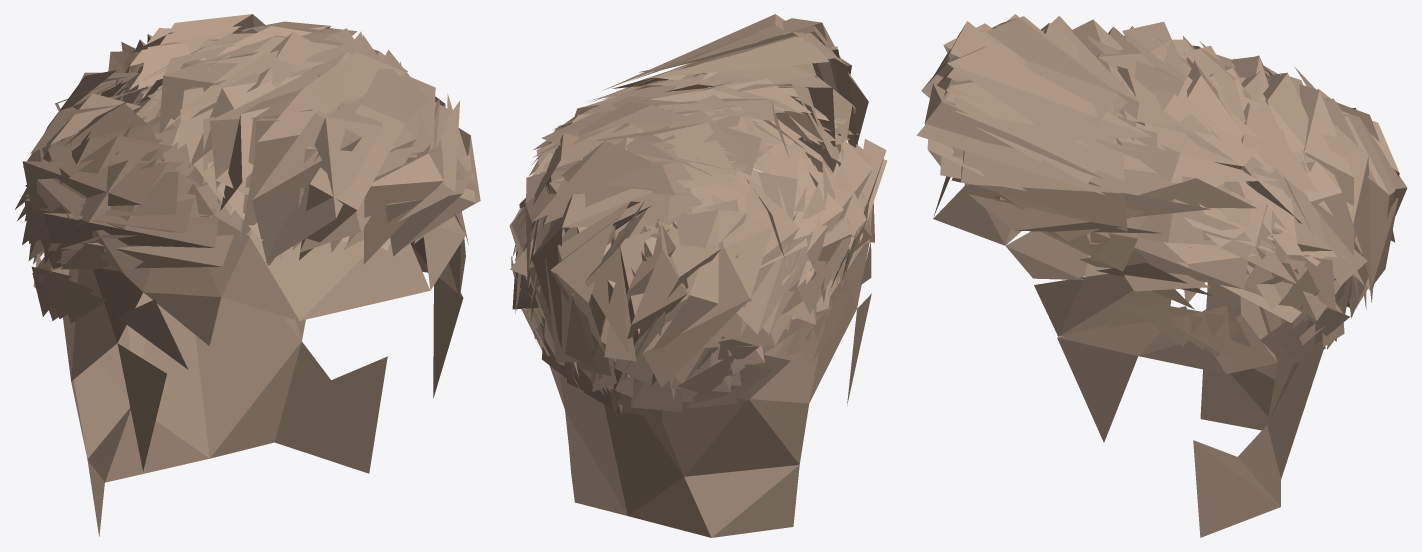
File: male_hair_04_lod2.glb
The picture shows the model from 3 angles, left to right: view 1: azimuth 30°, elevation 25°; view 2: azimuth 150°, elevation 25°; view 3: azimuth 270°, elevation 25°; orthographic projection. The views are drawn at different scales.
Visible parts, largest first — view 1: hair_04; view 2: hair_04; view 3: hair_04.
Boxes of the visible parts, x1,y1,x2,y2 form: hair_04: (15,14,480,536); hair_04: (509,14,887,537); hair_04: (916,14,1407,537).
Size of the model in its own units: 0.1582 by 0.2006 by 0.1994.
